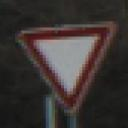preferencia: (10, 20, 118, 116)
